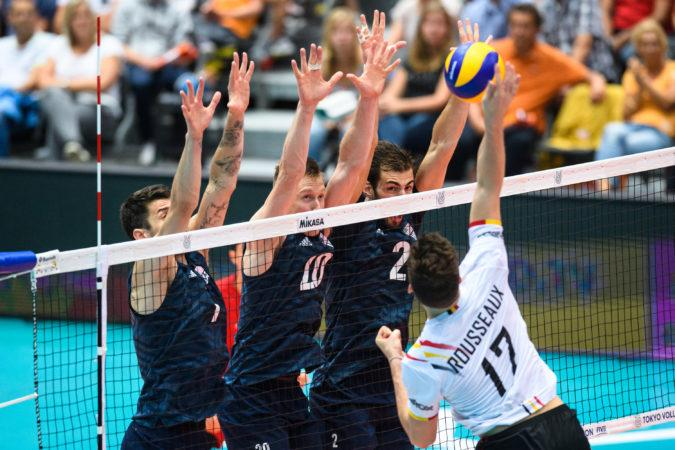ballon_volley: (443, 41, 507, 105)
